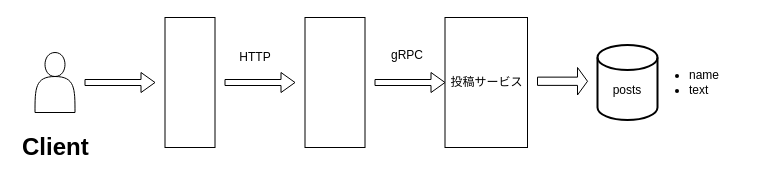
This 764x185 diagram has some shape labels left out. Each missing label, with the box of its shape:
gRPC-Gateway: (304, 16, 365, 148)
UI: (164, 16, 215, 148)
